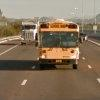Bus: (34, 17, 81, 67)
